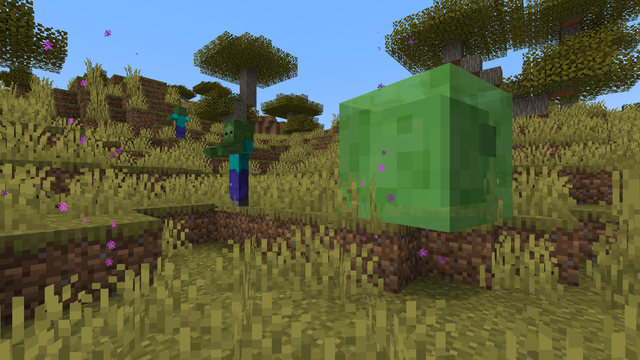slimes: (336, 52, 500, 233)
zombies: (220, 120, 255, 206), (173, 106, 187, 133)
